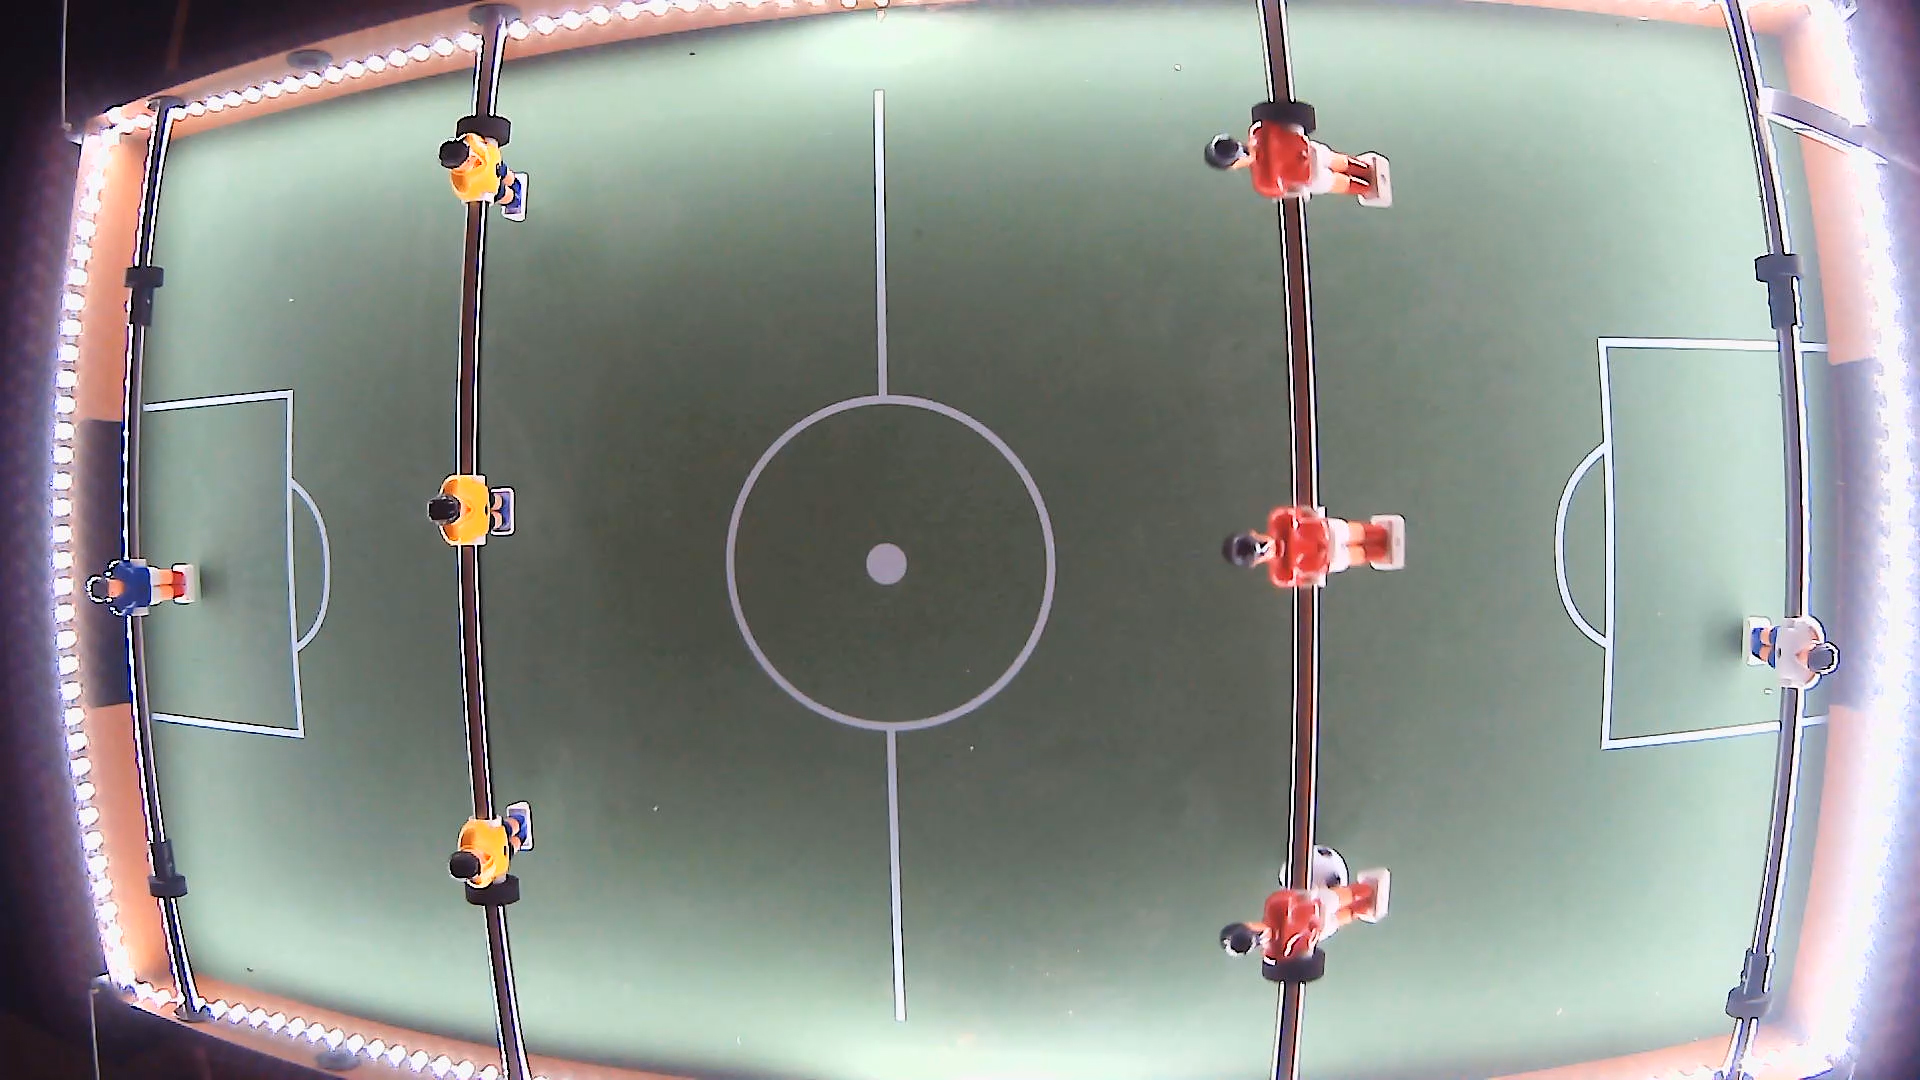Foosball: (1278, 844, 1348, 914)
